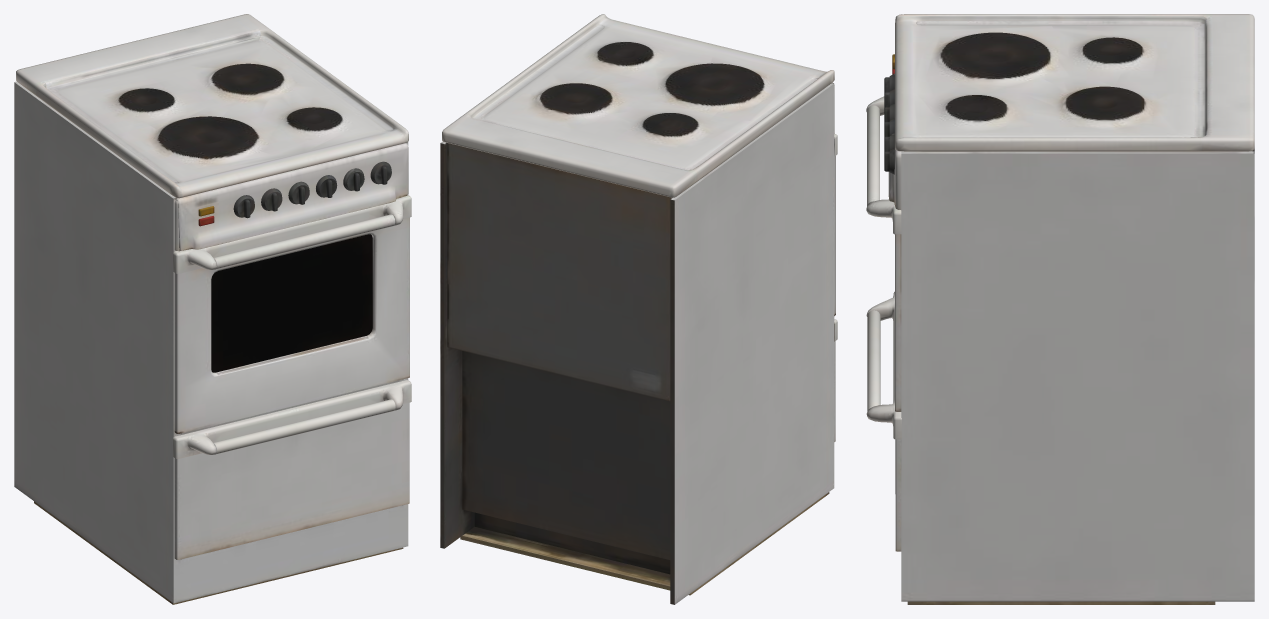
File: stove.glb
3 views of the same model, side by side, from view 1: azimuth 30°, elevation 25°; view 2: azimuth 150°, elevation 25°; view 3: azimuth 270°, elevation 25° (orthographic). The views are drawn at different scales.
Parts seen in each view (by area): view 1: stovetop, door_top, handle_bottom_attachment; view 2: stovetop; view 3: stovetop, handle_bottom_attachment, door_top.
Part boxes in pixels (bbox=[...]): stovetop: bbox=[14, 14, 408, 604]; door_top: bbox=[173, 195, 411, 433]; handle_bottom_attachment: bbox=[173, 380, 411, 559]; stovetop: bbox=[440, 14, 834, 604]; stovetop: bbox=[888, 14, 1254, 604]; handle_bottom_attachment: bbox=[866, 291, 901, 551]; door_top: bbox=[866, 96, 901, 411].
Size of the model in its own units: 0.5026 by 0.8587 by 0.6476.
2 materials, 2 textured.
